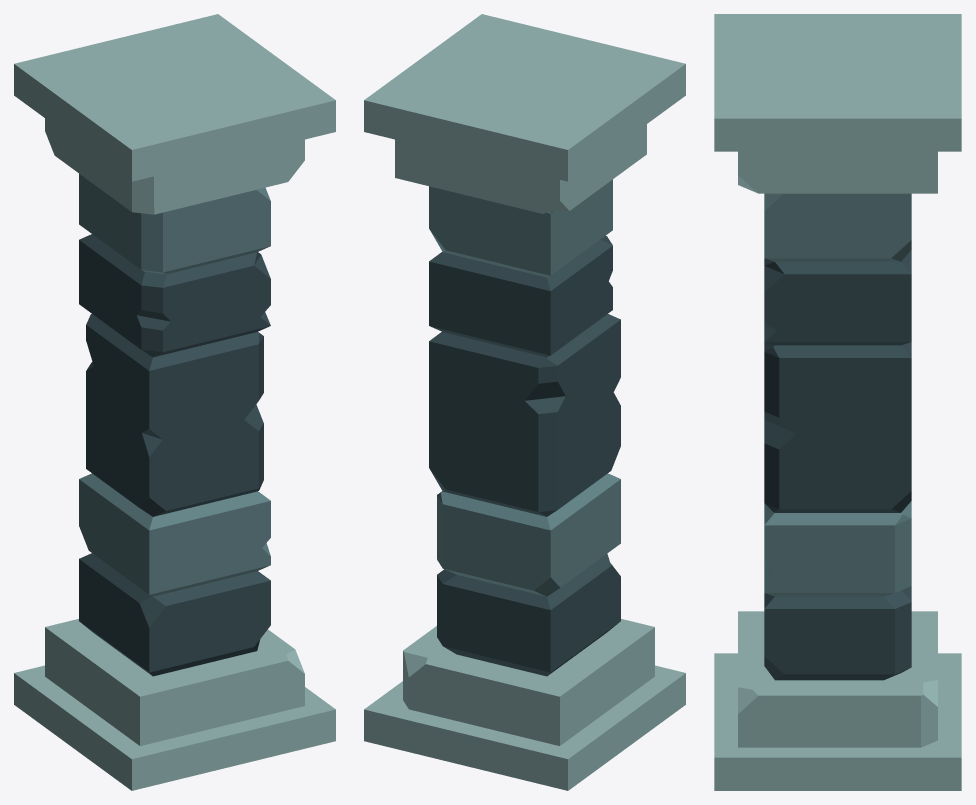
Rendered from Pillar 2.fbx.
The picture shows the model from 3 angles, left to right: view 1: azimuth 30°, elevation 25°; view 2: azimuth 150°, elevation 25°; view 3: azimuth 270°, elevation 25°; orthographic projection. The views are drawn at different scales.
Visible parts, largest first — view 1: Pillar 2; view 2: Pillar 2; view 3: Pillar 2.
Part boxes in pixels (x1,y1,x2,y2): Pillar 2: (14,14,335,790); Pillar 2: (364,14,685,790); Pillar 2: (714,14,961,790).
Size of the model in its own units: 100 by 300 by 100.
1 material, 1 textured.
